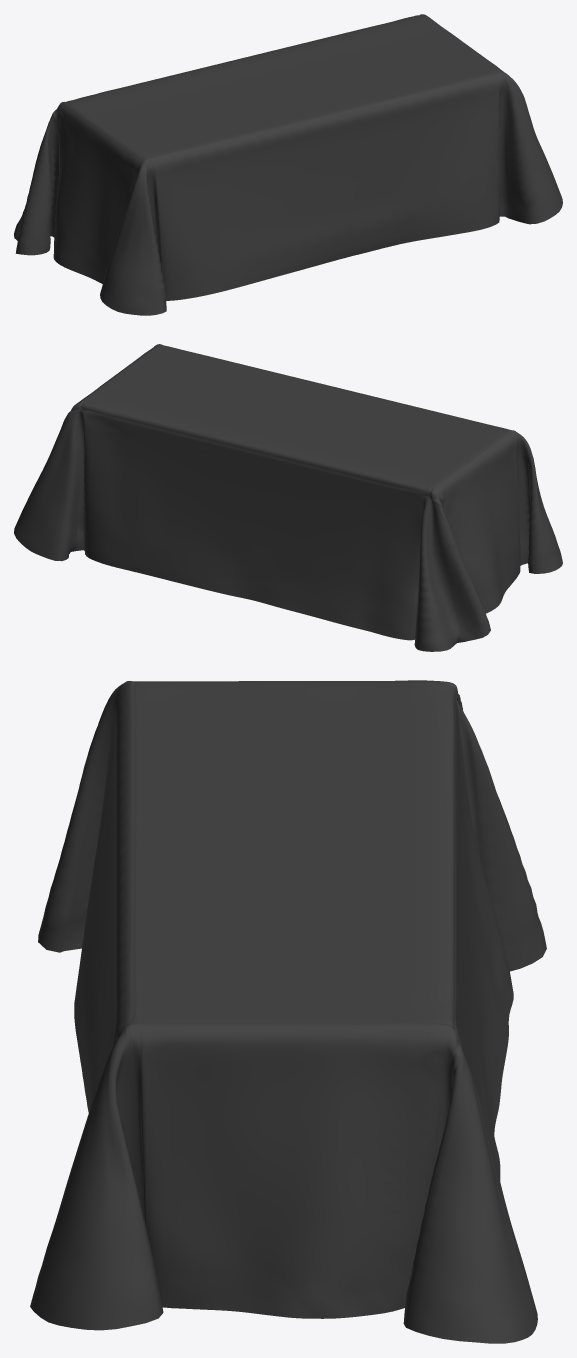
Rendered from throw-6ft-4.glb.
The picture shows the model from 3 angles, top to bottom: view 1: azimuth 30°, elevation 25°; view 2: azimuth 150°, elevation 25°; view 3: azimuth 270°, elevation 25°; orthographic projection. The views are drawn at different scales.
Parts seen in each view (by area): view 1: geometry_0; view 2: geometry_0; view 3: geometry_0.
Part boxes in pixels (x1,y1,x2,y2): geometry_0: (14,14,562,315); geometry_0: (14,344,562,651); geometry_0: (30,680,546,1343).
Bounding box in the file's own units: 2.43 × 0.7353 × 1.18.
1 material, 1 textured.
